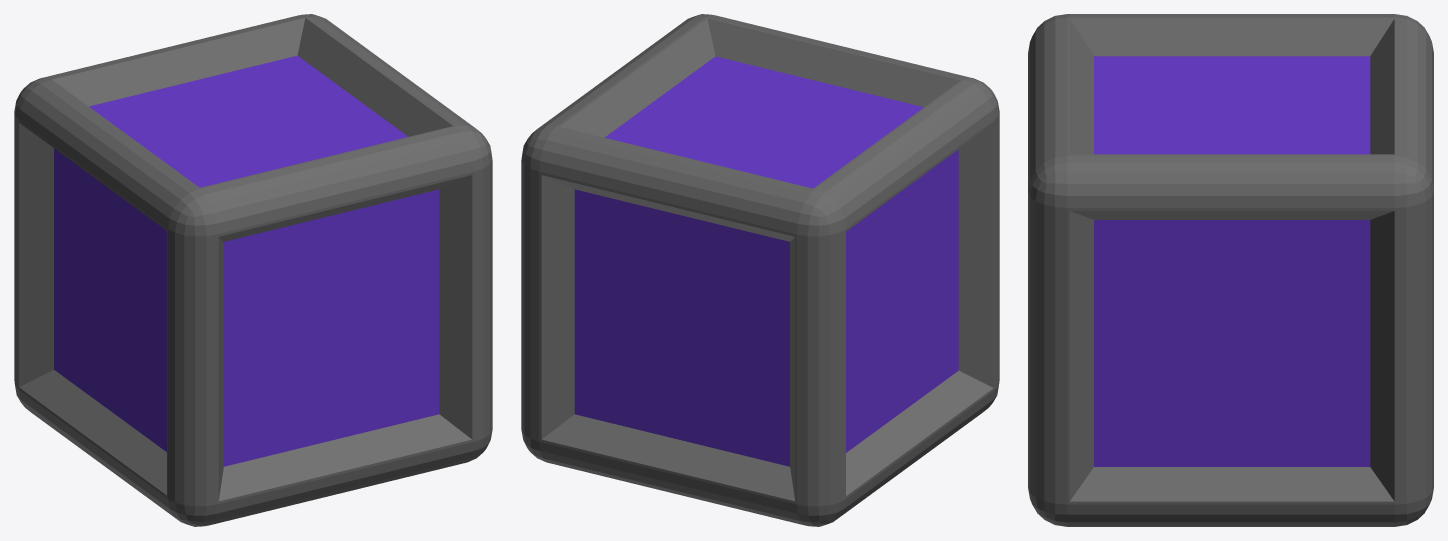
The model's file is building block.fbx.
3 renders of one model, left to right at view 1: azimuth 30°, elevation 25°; view 2: azimuth 150°, elevation 25°; view 3: azimuth 270°, elevation 25°, orthographic. The views are drawn at different scales.
Parts seen in each view (by area): view 1: frame, core; view 2: frame, core; view 3: frame, core.
Part boxes in pixels (x1,y1,x2,y2): frame: (14, 14, 492, 526); core: (54, 55, 439, 466); frame: (521, 14, 999, 526); core: (574, 56, 958, 466); frame: (1028, 14, 1433, 526); core: (1094, 56, 1370, 466).
Size of the model in its own units: 200 by 200 by 200.
